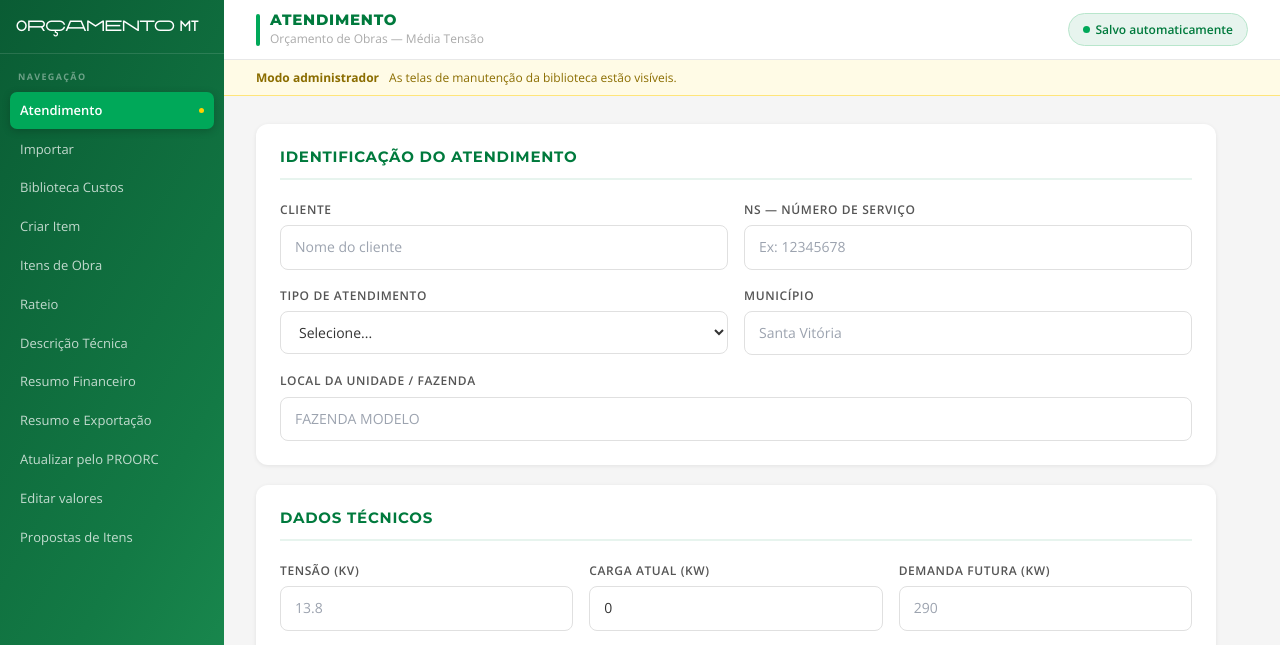
Test case: R7 — tela "Editar valores" › a aba aparece só no modo administrador
What coordinates should you click on to do the following:
click the button "Editar valores"
I would click on:
 (112, 498)
Its box is [10,480,214,517].
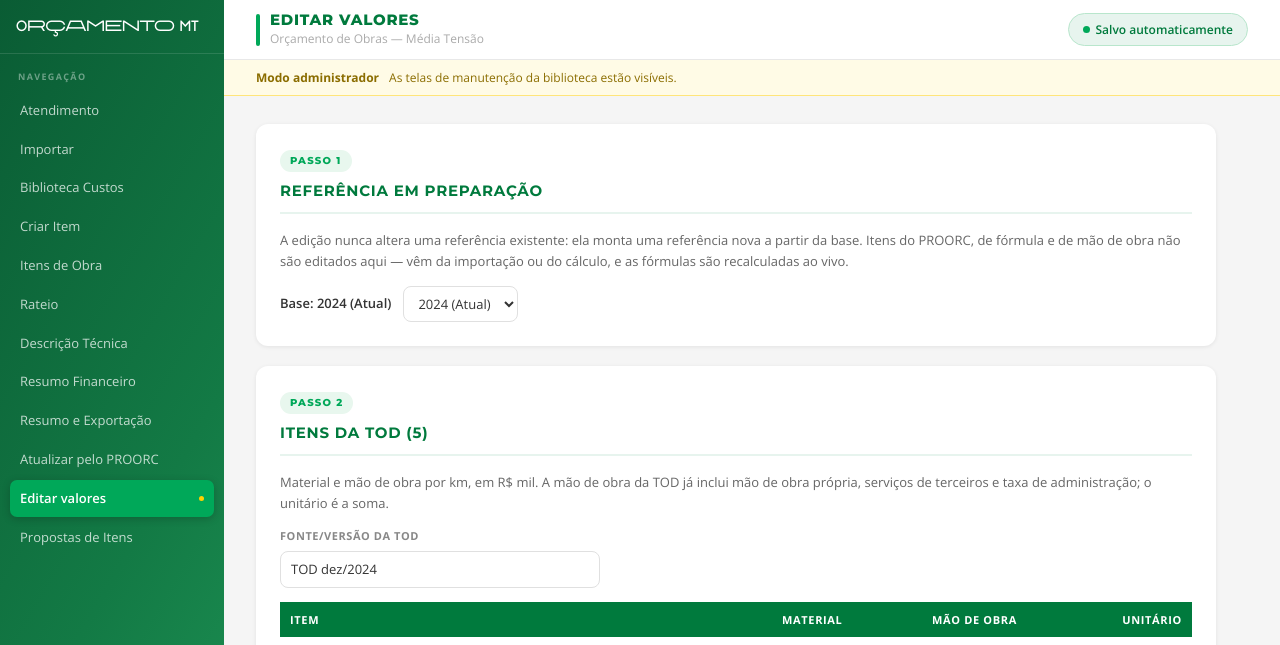
Check: the heading "Itens da TOD (5)" is shown, box [280,424,1192,456]
